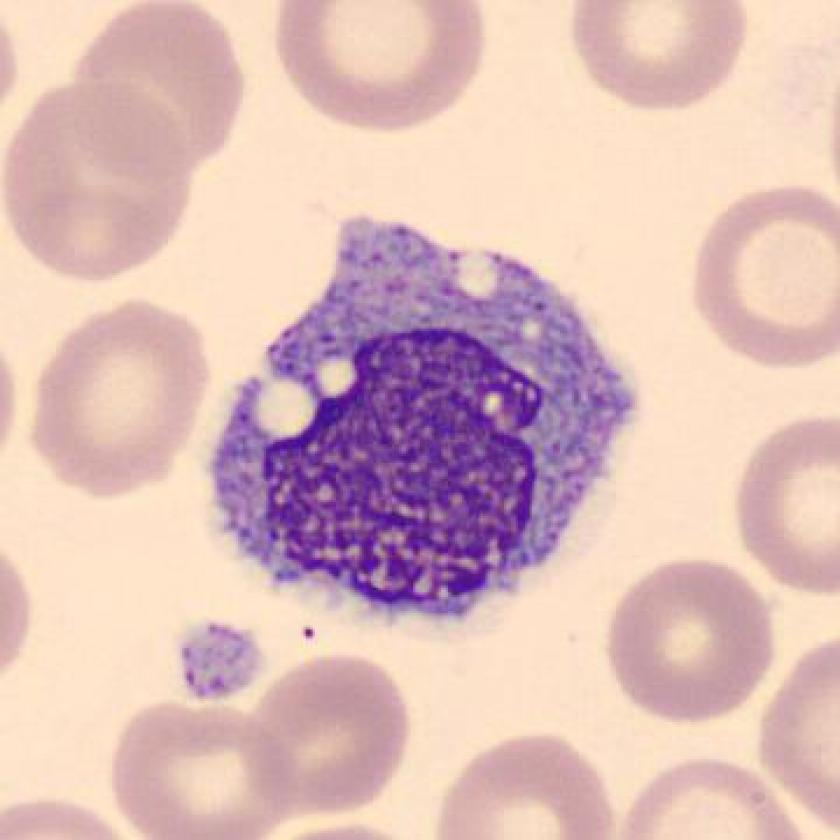monocyte: (195, 196, 650, 645)
